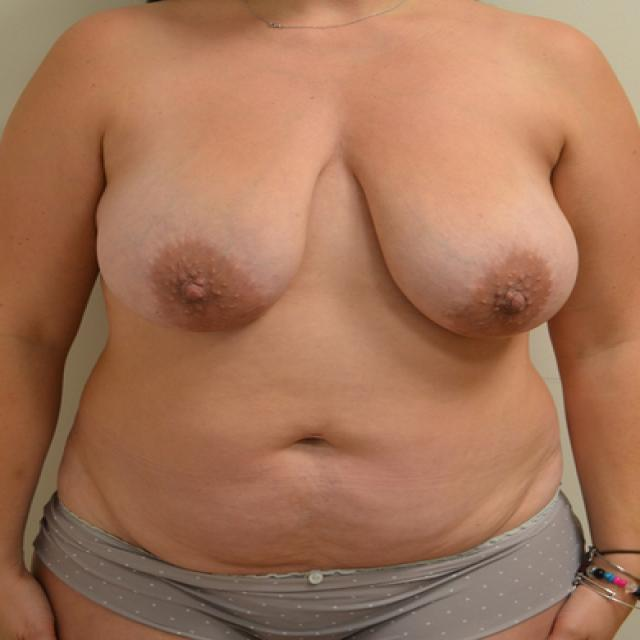Seno ileso: (344, 119, 589, 353), (86, 120, 335, 347)
